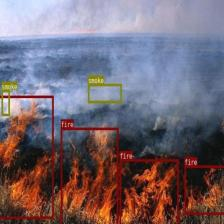fire: (0, 95, 53, 218), (60, 128, 118, 224), (119, 159, 178, 224), (184, 165, 224, 214)
smoke: (88, 84, 122, 103), (1, 90, 9, 116)
